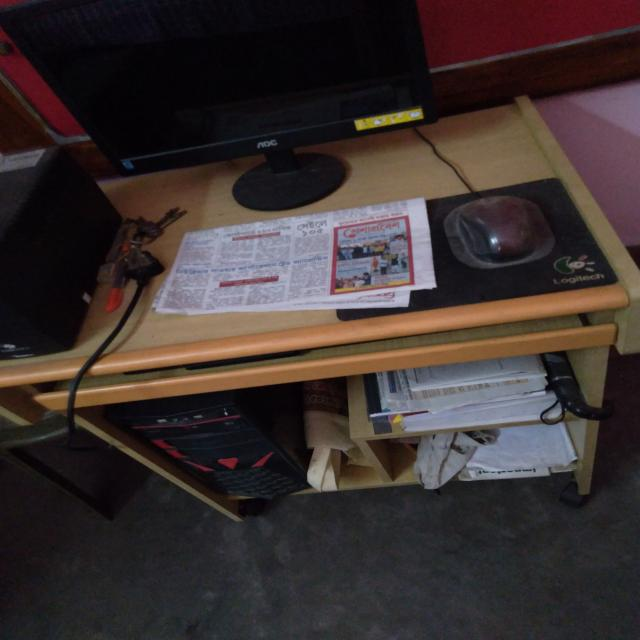komputer: (10, 0, 424, 231)
mouse: (455, 196, 550, 263)
